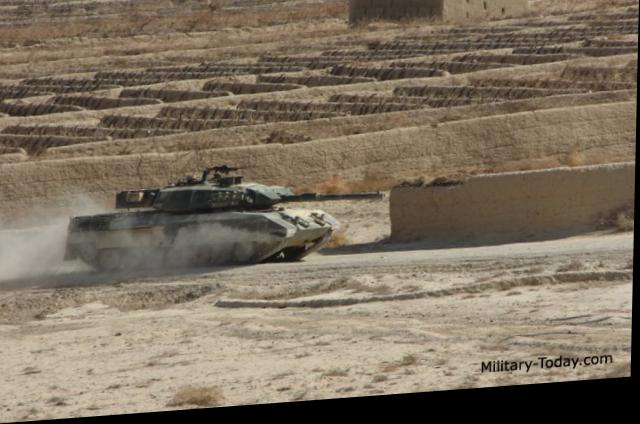tank: (57, 161, 345, 277)
